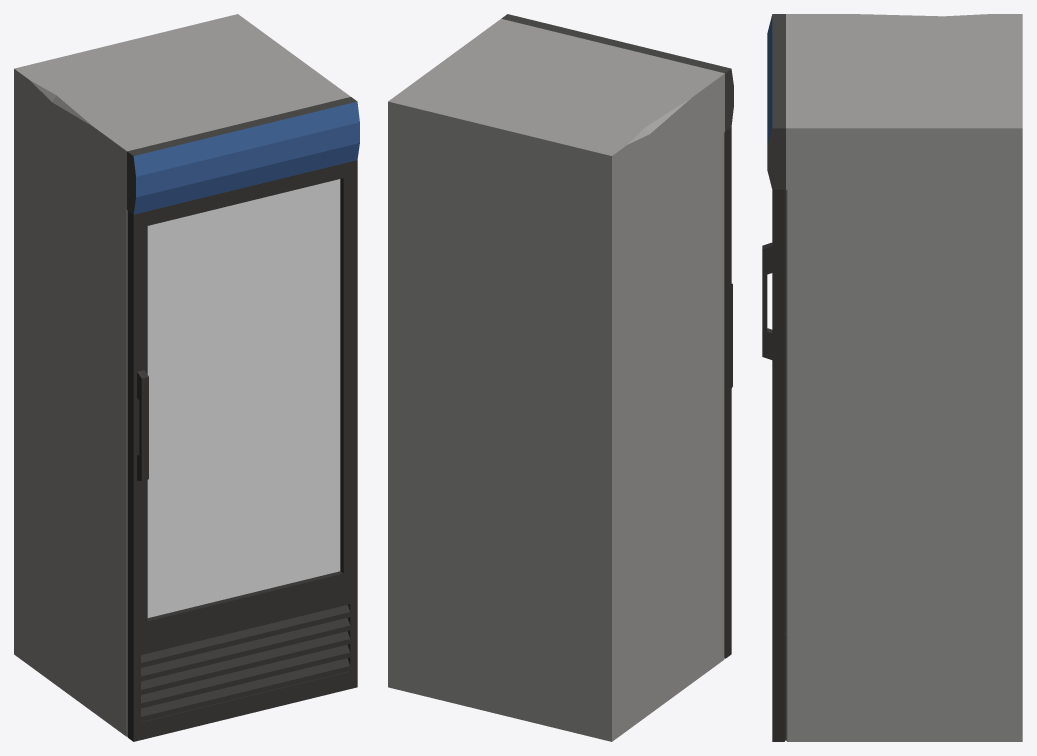
Rendered from SM_Props_Interior_SuperMarket_Fridge_Small_Preset_02.fbx.
3 renders of one model, left to right at view 1: azimuth 30°, elevation 25°; view 2: azimuth 150°, elevation 25°; view 3: azimuth 270°, elevation 25°, orthographic. The views are drawn at different scales.
Visible parts, largest first — view 1: SM_Props_Interior_SuperMarket_Fridge_Small_Preset_02, SM_Props_Interior_SuperMarket_Fridge_Small_Preset_02_Door; view 2: SM_Props_Interior_SuperMarket_Fridge_Small_Preset_02, SM_Props_Interior_SuperMarket_Fridge_Small_Preset_02_Door; view 3: SM_Props_Interior_SuperMarket_Fridge_Small_Preset_02, SM_Props_Interior_SuperMarket_Fridge_Small_Preset_02_Door.
Part boxes in pixels (x1,y1,x2,y2): SM_Props_Interior_SuperMarket_Fridge_Small_Preset_02: (14, 14, 359, 741); SM_Props_Interior_SuperMarket_Fridge_Small_Preset_02_Door: (127, 160, 357, 639); SM_Props_Interior_SuperMarket_Fridge_Small_Preset_02: (388, 14, 733, 741); SM_Props_Interior_SuperMarket_Fridge_Small_Preset_02_Door: (724, 127, 732, 555); SM_Props_Interior_SuperMarket_Fridge_Small_Preset_02: (767, 14, 1022, 741); SM_Props_Interior_SuperMarket_Fridge_Small_Preset_02_Door: (762, 189, 785, 634).
Size of the model in its own units: 80 by 200 by 77.
